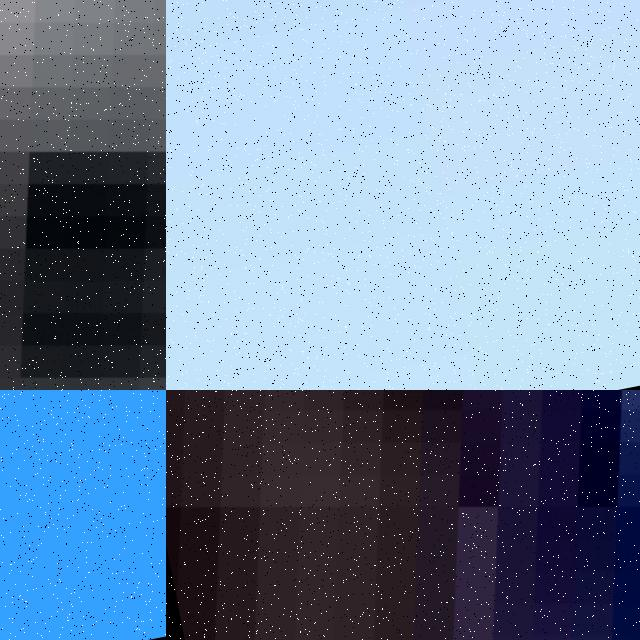drone: (166, 390, 640, 640), (0, 0, 166, 390), (0, 390, 166, 640)
